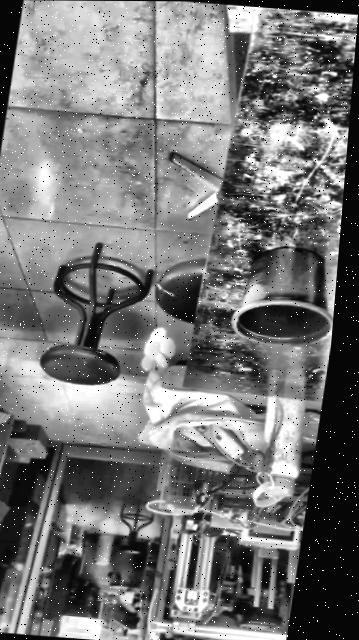pot: (229, 245, 339, 348)
